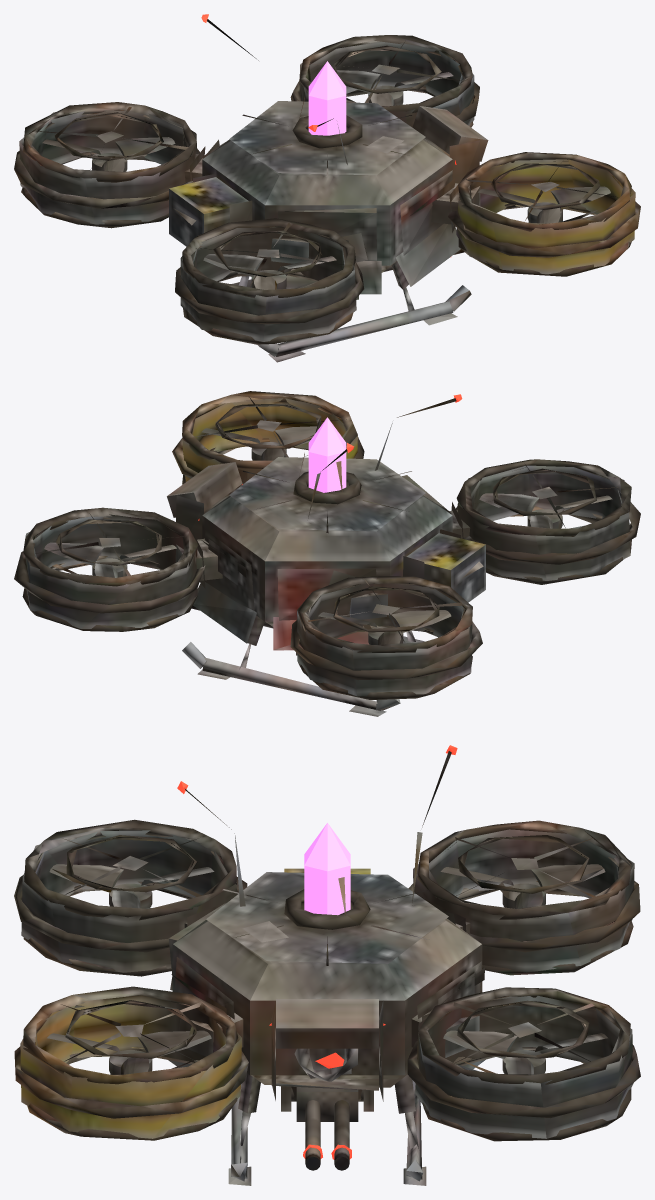
Rendered from drone_defesa.glb.
3 views of the same model, one above another, from view 1: azimuth 30°, elevation 25°; view 2: azimuth 150°, elevation 25°; view 3: azimuth 270°, elevation 25° (orthographic). The views are drawn at different scales.
Visible parts, largest first — view 1: drone_defesa_corpo, drone_defesa_n0, drone_defesa_rotor3.001, drone_defesa_rotor2.001, drone_defesa_rotor1.001, drone_defesa_rotor0.001; view 2: drone_defesa_corpo, drone_defesa_n0, drone_defesa_rotor2.001, drone_defesa_rotor0.001, drone_defesa_rotor1.001, drone_defesa_rotor3.001; view 3: drone_defesa_corpo, drone_defesa_n0, drone_defesa_canhao.001, drone_defesa_rotor1.001, drone_defesa_rotor2.001, drone_defesa_rotor0.001, drone_defesa_rotor3.001, drone_defesa_torre.001.
Part boxes in pixels (x1,y1,x2,y2): drone_defesa_corpo: [14, 19, 640, 362]; drone_defesa_n0: [201, 14, 456, 164]; drone_defesa_rotor3.001: [478, 186, 610, 223]; drone_defesa_rotor2.001: [203, 254, 336, 289]; drone_defesa_rotor1.001: [42, 137, 175, 171]; drone_defesa_rotor0.001: [336, 70, 453, 106]; drone_defesa_corpo: [14, 391, 640, 716]; drone_defesa_n0: [198, 394, 462, 520]; drone_defesa_rotor2.001: [479, 493, 612, 528]; drone_defesa_rotor0.001: [44, 542, 176, 577]; drone_defesa_rotor1.001: [318, 610, 451, 644]; drone_defesa_rotor3.001: [201, 426, 316, 460]; drone_defesa_corpo: [14, 751, 640, 1185]; drone_defesa_n0: [177, 745, 457, 1068]; drone_defesa_canhao.001: [291, 1087, 363, 1170]; drone_defesa_rotor1.001: [440, 864, 605, 908]; drone_defesa_rotor2.001: [49, 864, 214, 908]; drone_defesa_rotor0.001: [443, 1030, 607, 1074]; drone_defesa_rotor3.001: [47, 1030, 211, 1074]; drone_defesa_torre.001: [281, 1086, 373, 1111].
Size of the model in its own units: 0.6081 by 0.3665 by 0.6081.
Materials: 5 (1 with a texture image).
